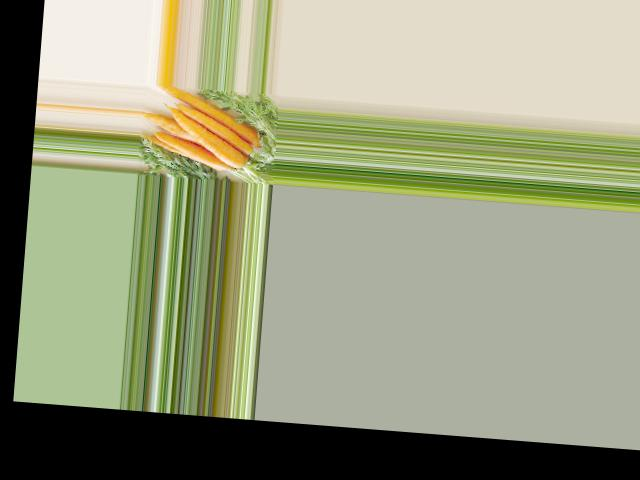carrot: (154, 84, 270, 148)
